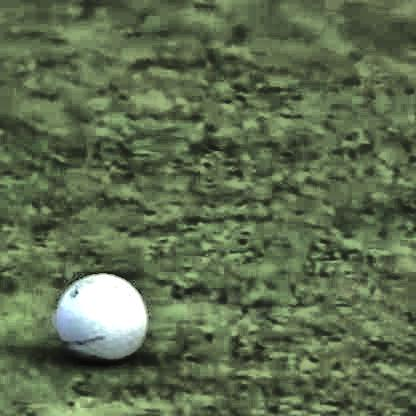golfball: (52, 271, 146, 360)
